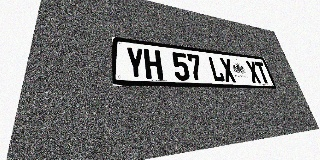5: (171, 52, 191, 81)
7: (186, 53, 205, 81)
H: (143, 49, 163, 80)
L: (207, 56, 225, 82)
T: (254, 61, 271, 84)
X: (219, 57, 237, 82), (245, 60, 262, 83)
Y: (125, 46, 146, 79)
